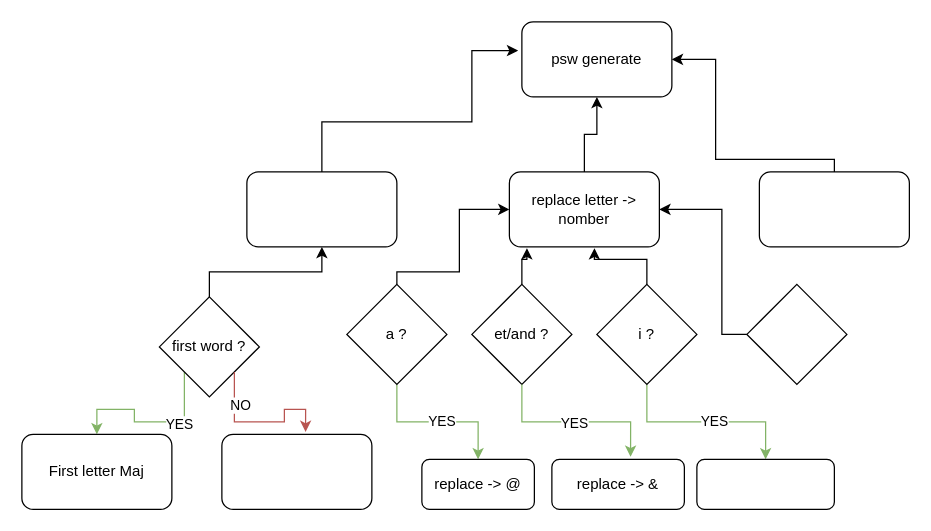
The diagram is 931 pixels wide and 531 high, and some of its shapes have lost their labels. Here are the shapes that lost their labels. From the top down, the centre of each, then its label:
[321,209]: first letter of world
[833,209]: add orginal cacarters
[296,471]: low case
[765,483]: replace -> !
